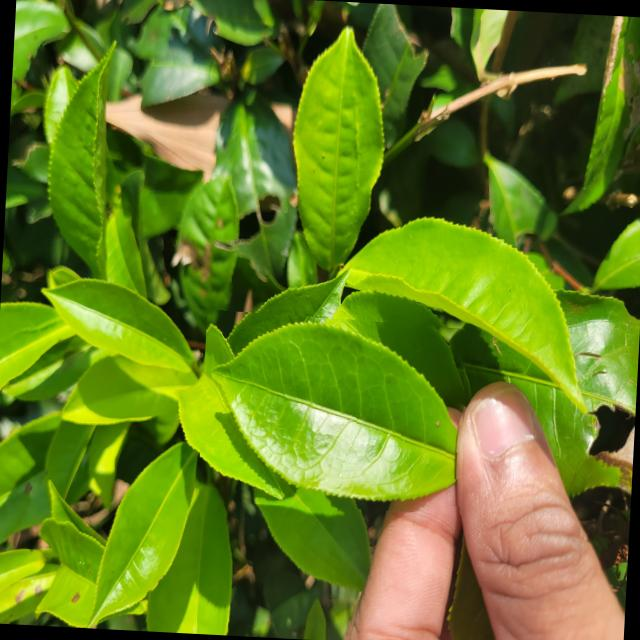Catagory A 1-2 days: (198, 308, 472, 514)
